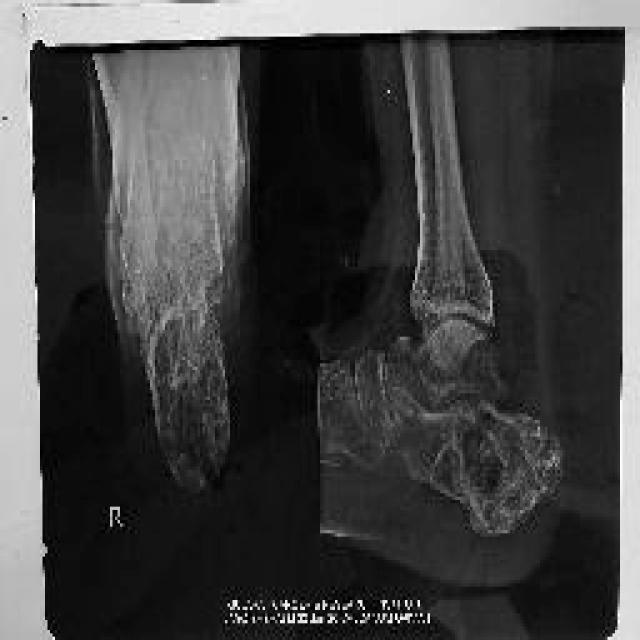bone-cancer: (426, 404, 567, 536), (148, 305, 230, 488)
